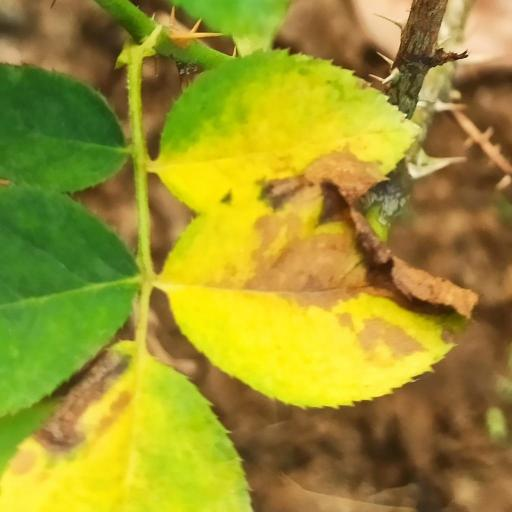healthy_leaf: (0, 186, 138, 415), (0, 64, 128, 192)
thrip: (157, 180, 477, 407), (150, 50, 416, 212), (0, 342, 252, 512)
